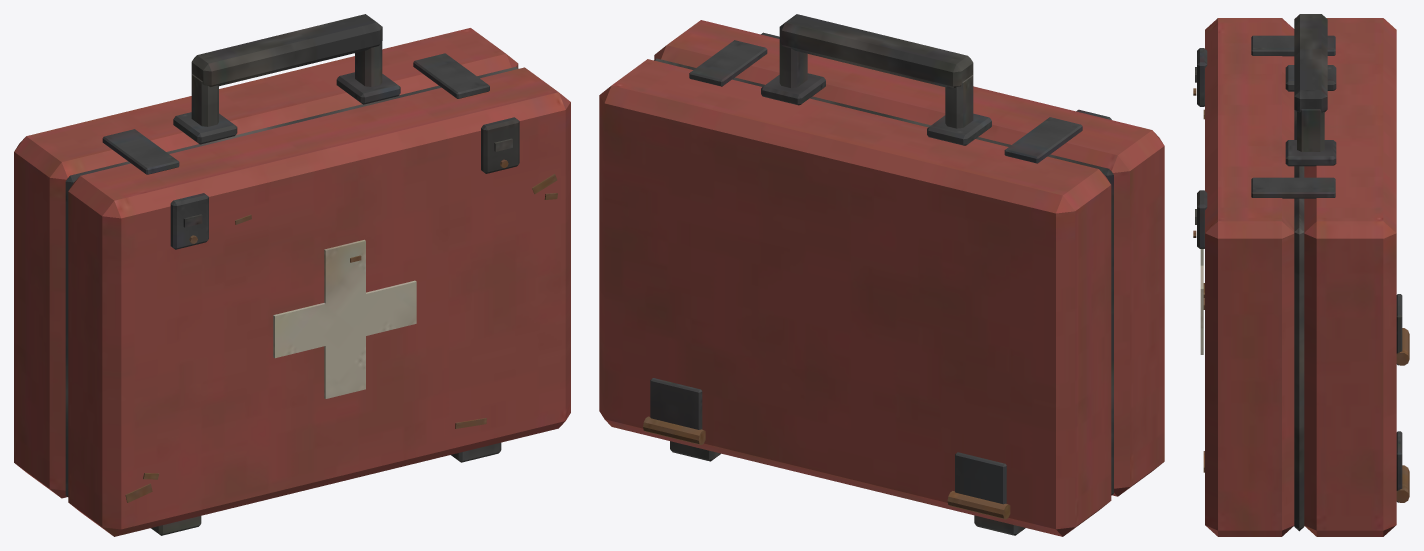
Rendered from P35_large_medkit.glb.
The picture shows the model from 3 angles, left to right: view 1: azimuth 30°, elevation 25°; view 2: azimuth 150°, elevation 25°; view 3: azimuth 270°, elevation 25°; orthographic projection. The views are drawn at different scales.
Parts seen in each view (by area): view 1: Rear steel shell; view 2: Rear steel shell; view 3: Rear steel shell.
Part boxes in pixels (x1=…): Rear steel shell: x1=14, y1=14, x2=570, y2=536; Rear steel shell: x1=599, y1=14, x2=1164, y2=536; Rear steel shell: x1=1193, y1=14, x2=1409, y2=536.
Size of the model in its own units: 0.35 by 0.303 by 0.149.
Materials: 6 (6 with a texture image).
